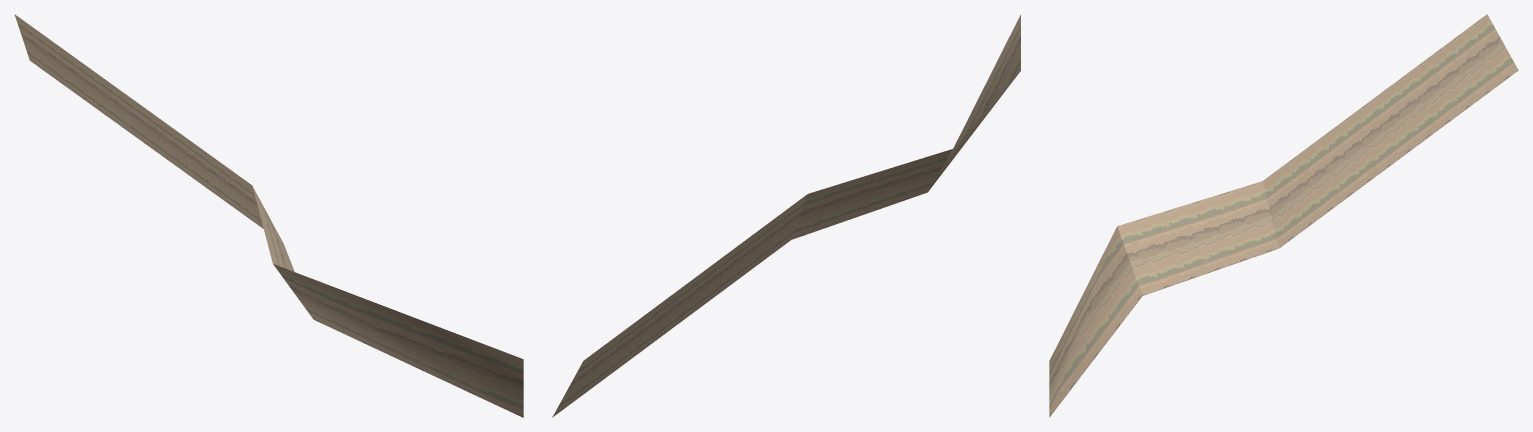
Rendered from kd_stage_135ebf_3_27.glb.
3 views of the same model, side by side, from view 1: azimuth 30°, elevation 25°; view 2: azimuth 150°, elevation 25°; view 3: azimuth 330°, elevation 25° (orthographic). The views are drawn at different scales.
Parts seen in each view (by area): view 1: kd_stage_135ebf_3_27; view 2: kd_stage_135ebf_3_27; view 3: kd_stage_135ebf_3_27.
Part boxes in pixels (x1,y1,x2,y2): kd_stage_135ebf_3_27: [14, 14, 523, 417]; kd_stage_135ebf_3_27: [552, 14, 1020, 417]; kd_stage_135ebf_3_27: [1049, 14, 1518, 417].
Bounding box in the file's own units: 2.57 × 1.6 × 24.17.
Materials: 1 (1 with a texture image).
